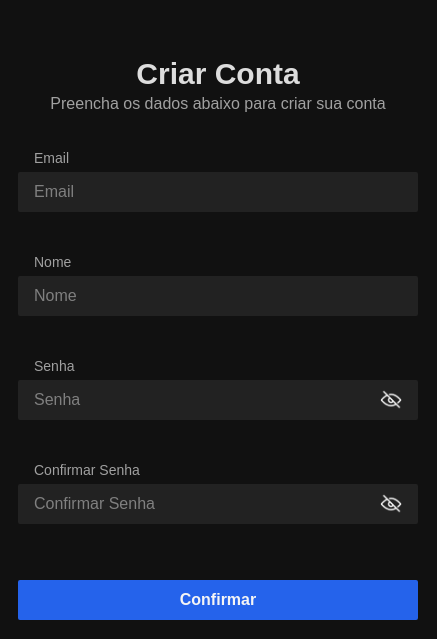
Test: Create User Component › Should close the notification
Type "user01@email.com" into the field with placeholder "Email". click: coordinates (218, 192)
box: [18,172,418,212]
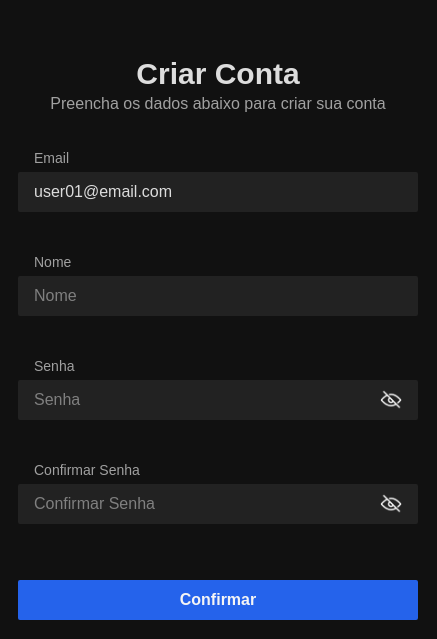
Type "user01" into the field with placeholder "Nome". click: coordinates (218, 296)
box: [18,276,418,316]
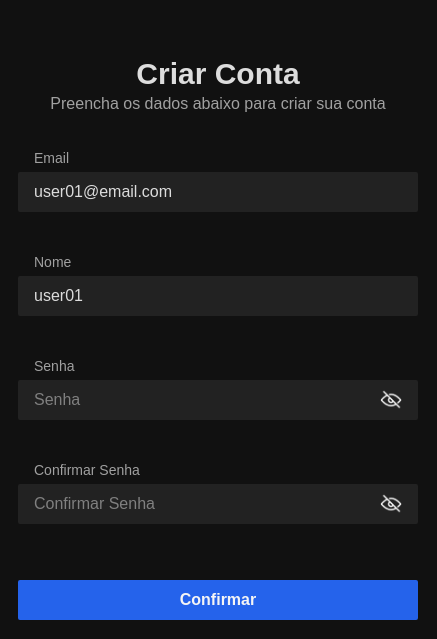
Type "User1234" into the password field with placeholder "Senha". click: coordinates (207, 400)
box: [34,388,380,412]
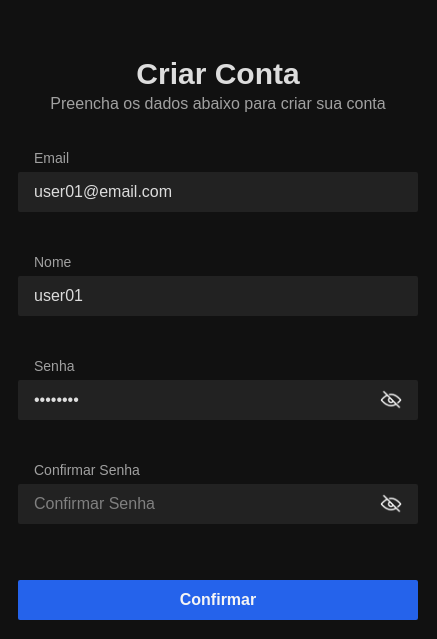
Type "User1234" into the password field with placeholder "Confirmar Senha". click: coordinates (207, 504)
box: [34,492,380,516]
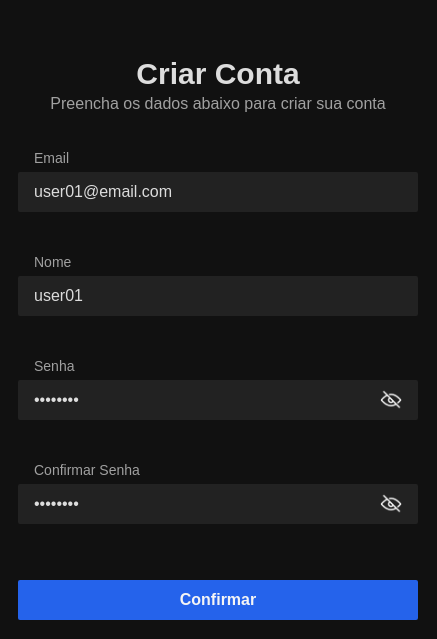
Click the button "Confirmar". click: coordinates (218, 600)
box: [18,580,418,620]
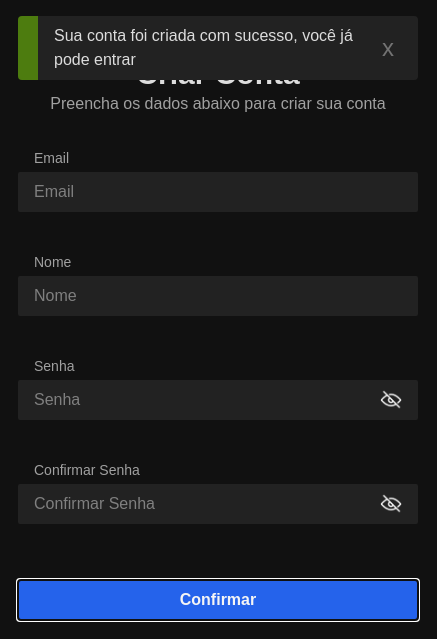
Click the button "x". click: coordinates (388, 48)
box: [374,24,402,72]
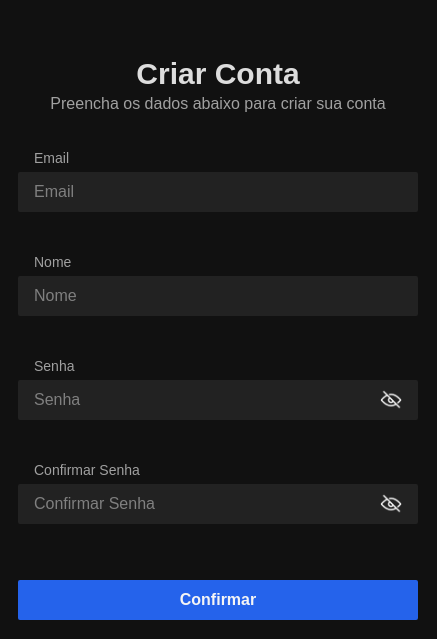
Expected: the text "Sua conta foi criada com sucesso, você já pode entrar" is gone
